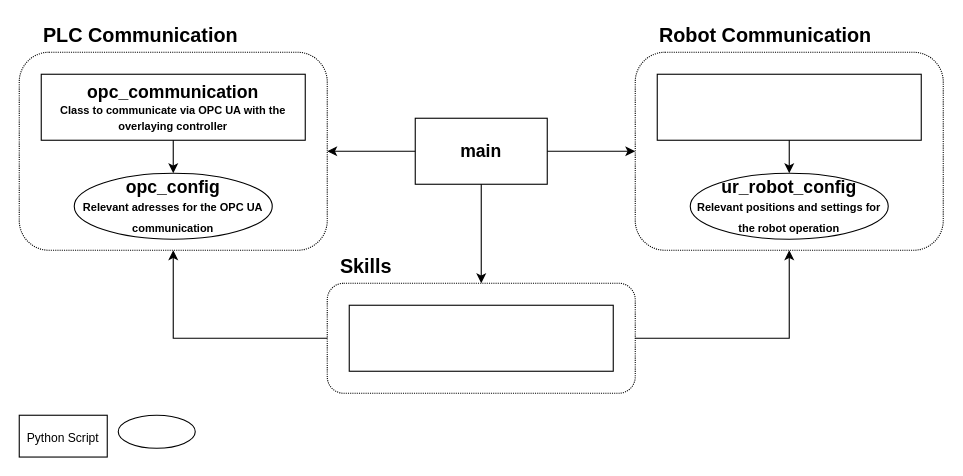
Some shapes in this 963 by 476 pixel diagram are drawn without their labels. The centre of each missing label's shape, as x and y in pixels:
skills Class to execute and control the different skills of the module: [480,337]
ur_robot_communication Class to operate the UR robot using the UR-RTDE interface: [788,106]
YAML file: [156,431]
